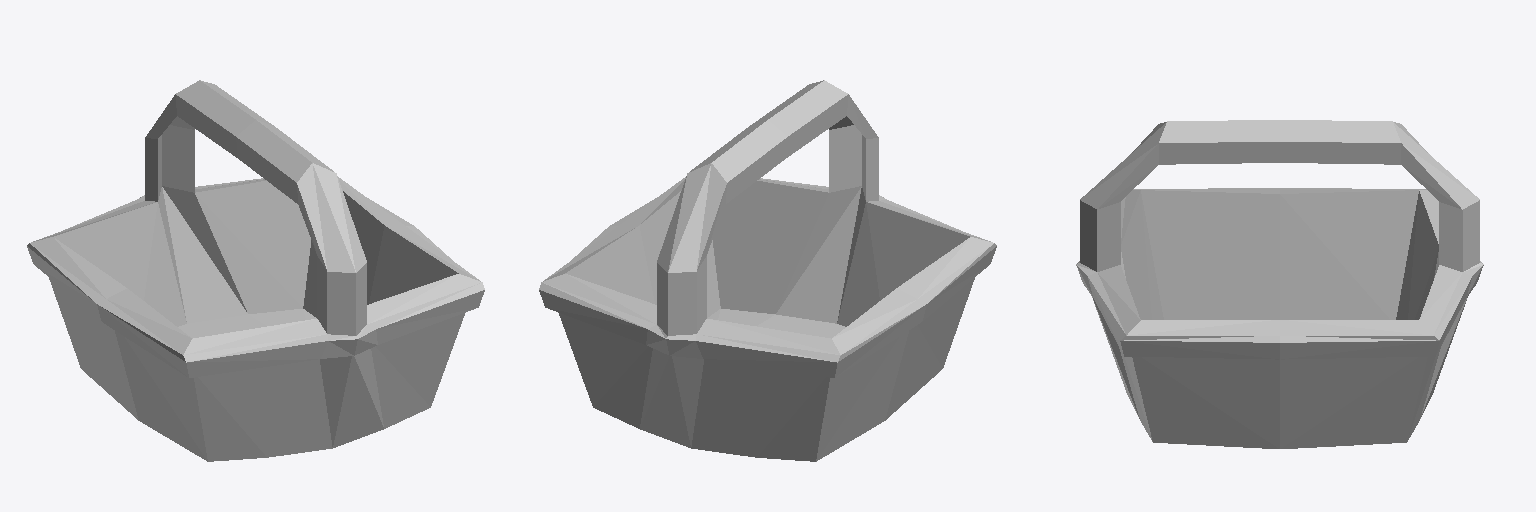
Rendered from basket.obj.
3 views of the same model, side by side, from view 1: azimuth 30°, elevation 25°; view 2: azimuth 150°, elevation 25°; view 3: azimuth 270°, elevation 25° (orthographic).
Visible parts, largest first — view 1: Cube; view 2: Cube; view 3: Cube.
Boxes of the visible parts, box(x1,y1,x2,y2) form: Cube: box(27, 80, 484, 461); Cube: box(539, 80, 996, 461); Cube: box(1076, 120, 1483, 448).
Bounding box in the file's own units: 2.41 × 1.97 × 2.67.